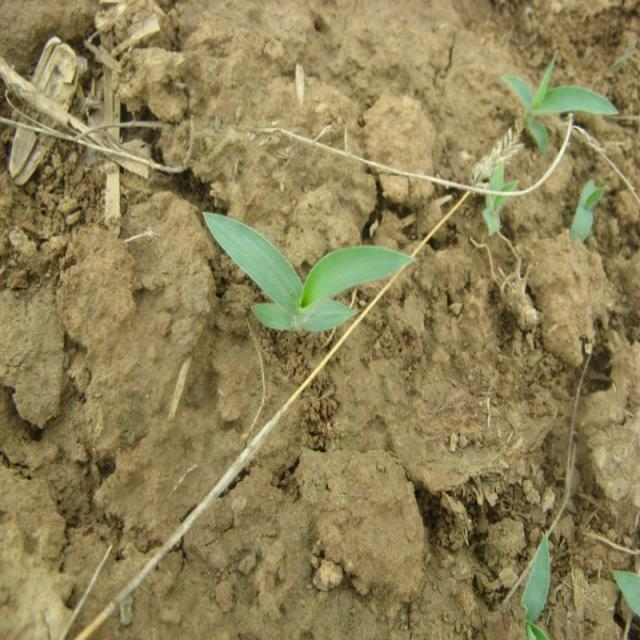bg: (202, 207, 417, 329)
